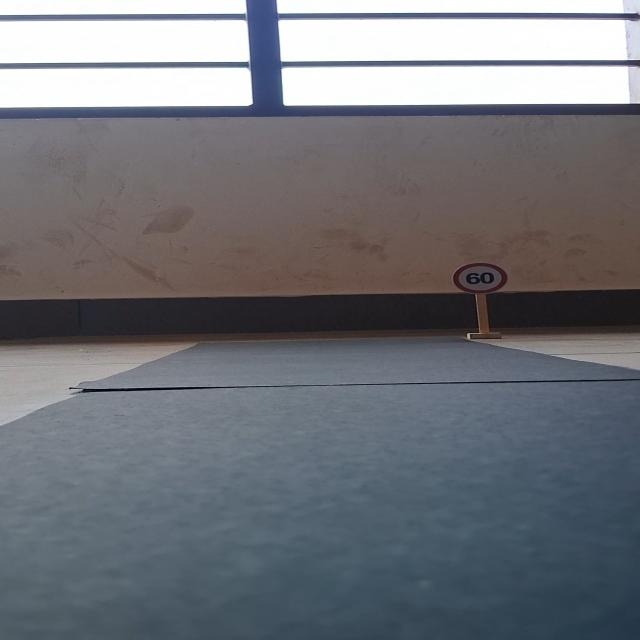Speed60: (453, 263, 510, 295)
